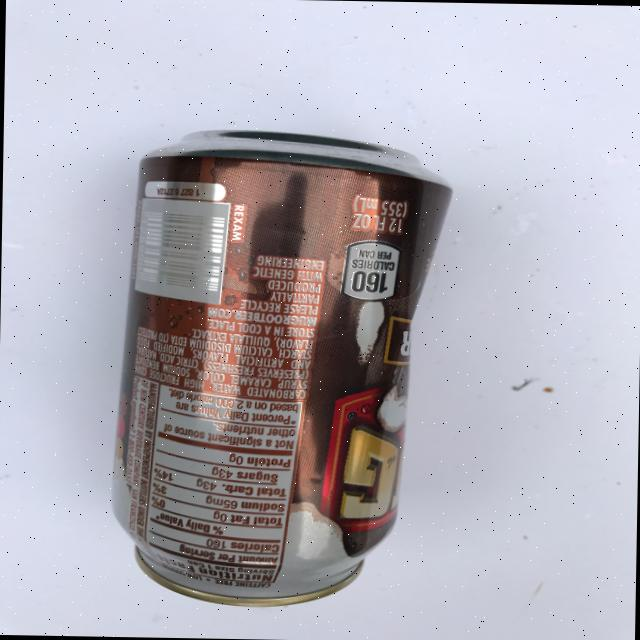metal: (110, 126, 453, 610)
